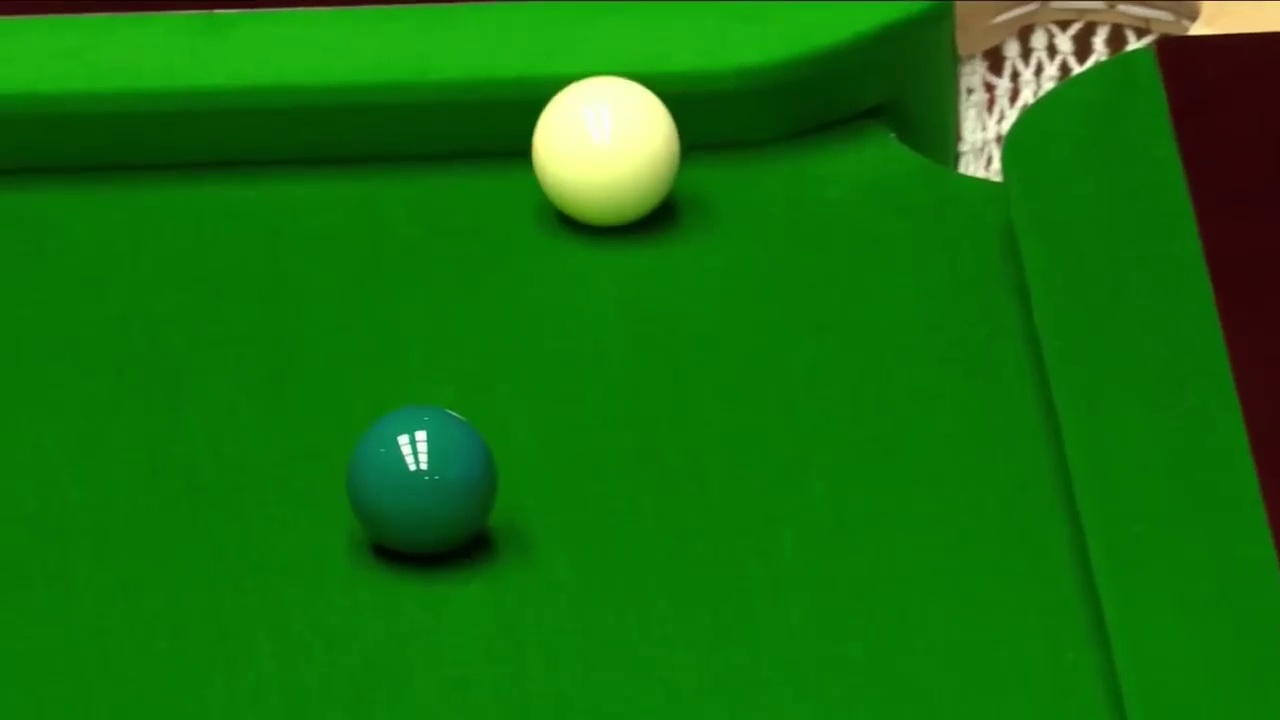ball: (527, 72, 681, 226), (345, 410, 498, 552)
